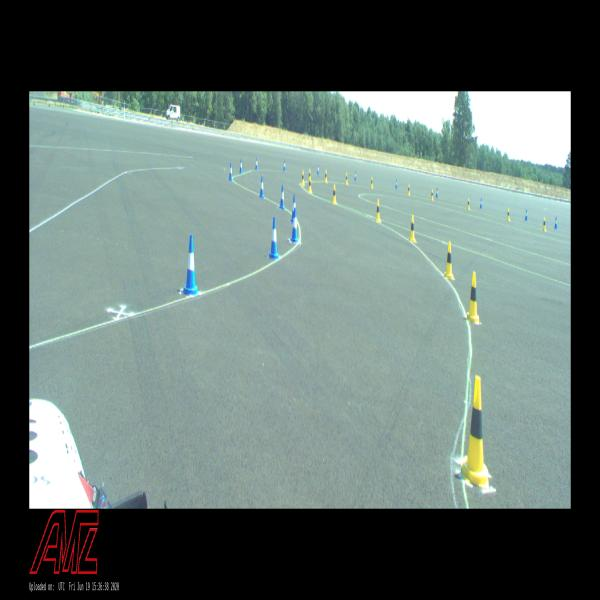blue_cone: (184, 235, 198, 294), (268, 217, 279, 259), (291, 208, 298, 243), (290, 194, 296, 222), (280, 184, 284, 209), (260, 176, 264, 198), (239, 159, 243, 174), (229, 163, 232, 180), (255, 157, 258, 170), (283, 160, 286, 171), (525, 210, 528, 220), (555, 216, 557, 229), (354, 172, 357, 180), (318, 164, 320, 175), (480, 198, 482, 208), (436, 188, 438, 198), (396, 179, 398, 188)
yellow_cone: (462, 376, 489, 486), (466, 272, 479, 322), (445, 242, 453, 278), (409, 216, 415, 242), (376, 200, 380, 221), (332, 184, 336, 203), (308, 177, 312, 192), (543, 217, 546, 231), (507, 209, 510, 220), (467, 198, 470, 209), (302, 171, 304, 185), (325, 170, 327, 182), (309, 169, 311, 181), (408, 184, 410, 195), (371, 177, 373, 188), (346, 173, 348, 184), (431, 189, 433, 200)
